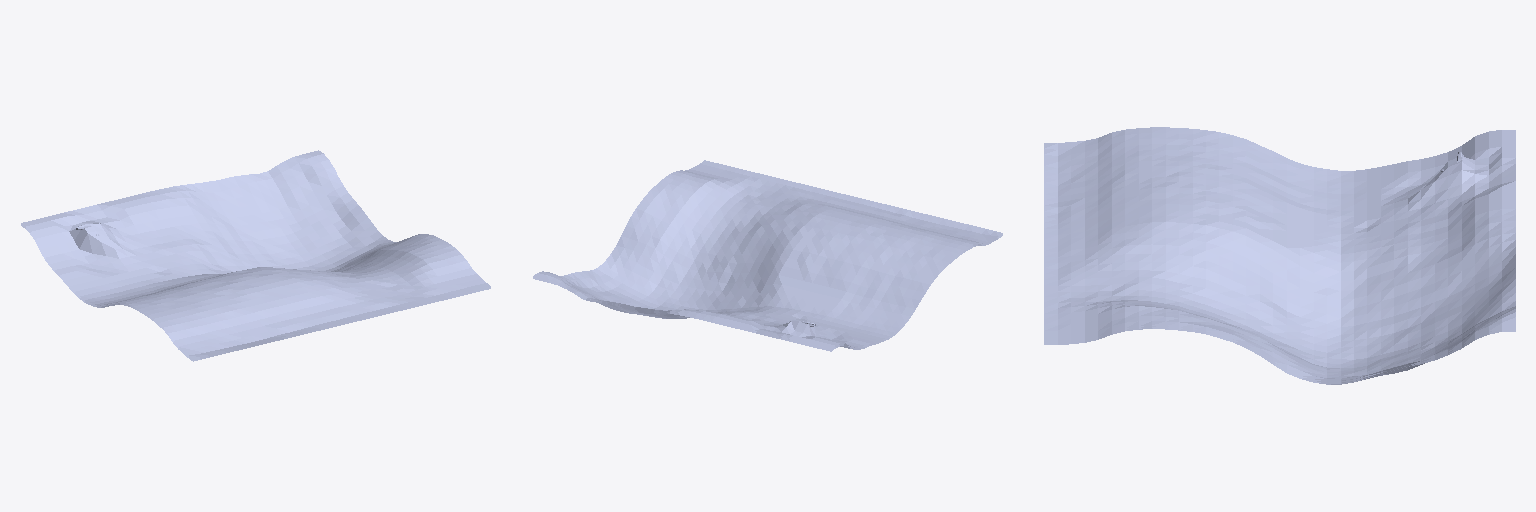
URDF robot description (sand_floor_v2):
<?xml version="1.0" encoding="utf-8"?>
<!-- This URDF was automatically created by SolidWorks to URDF Exporter! Originally created by [author] ([email redacted]) 
     Commit Version: 1.6.0-1-g15f4949  Build Version: 1.6.7594.29634
     For more information, please see http://wiki.ros.org/sw_urdf_exporter -->
<robot
  name="sand_floor_v2">
  <link
    name="base_link">
    <inertial>
      <origin
        xyz="0 0 0"
        rpy="0 0 0" />
      <mass
        value="0" />
      <inertia
        ixx="0"
        ixy="0"
        ixz="0"
        iyy="0"
        iyz="0"
        izz="0" />
    </inertial>
    <visual>
      <origin
        xyz="0 0 0"
        rpy="0 0 0" />
      <geometry>
        <mesh
          filename="package://sand_floor_v2/meshes/base_link.STL" />
      </geometry>
      <material
        name="">
        <color
          rgba="0.792156862745098 0.819607843137255 0.933333333333333 1" />
      </material>
    </visual>
    <collision>
      <origin
        xyz="0 0 0"
        rpy="0 0 0" />
      <geometry>
        <mesh
          filename="package://sand_floor_v2/meshes/base_link.STL" />
      </geometry>
    </collision>
  </link>
</robot>

--- What the picture shows (computed from the rendered views, not written in the file) ---
Views: 3 orthographic renders of the robot side by side, from view 1: azimuth 30°, elevation 25°; view 2: azimuth 150°, elevation 25°; view 3: azimuth 270°, elevation 25°.
Model sand_floor_v2 with 1 links and 0 joints (none), rooted at base_link, posed every joint at zero.
Visible links, largest first — view 1: base_link; view 2: base_link; view 3: base_link.
Link boxes in pixels (x1,y1,x2,y2): base_link: (21,150,490,361); base_link: (533,160,1002,351); base_link: (1044,127,1515,384).
Size in the robot's own frame: 70 by 70 by 13.96 metres.
Meshes: 1 distinct files referenced, 1 mesh visuals loaded (1 binary STL).